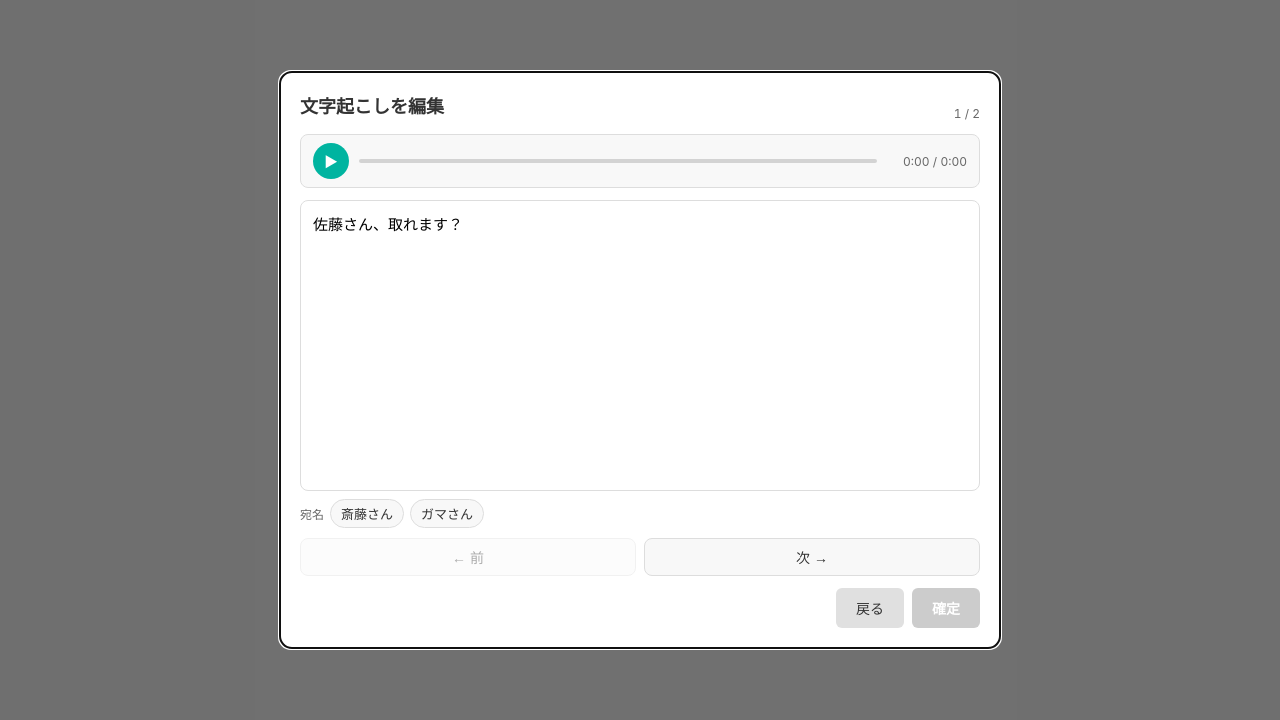
VoiceEditModal — 宛名の候補 › 部屋の候補を並べ、押すと冒頭の呼びかけを差し替える
Click the button "斎藤さん".
click(367, 514)  # box [330,499,404,528]
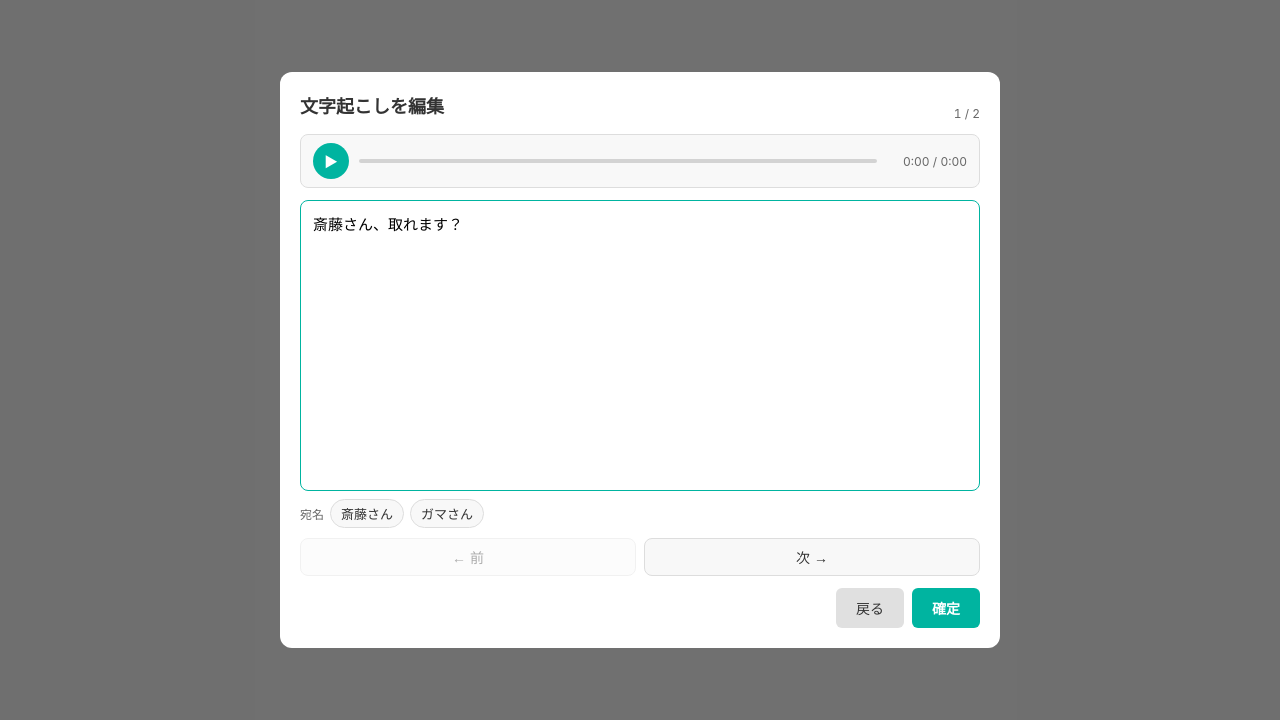
Expected: the text box holds "斎藤さん、取れます？", [300,200,980,491]
